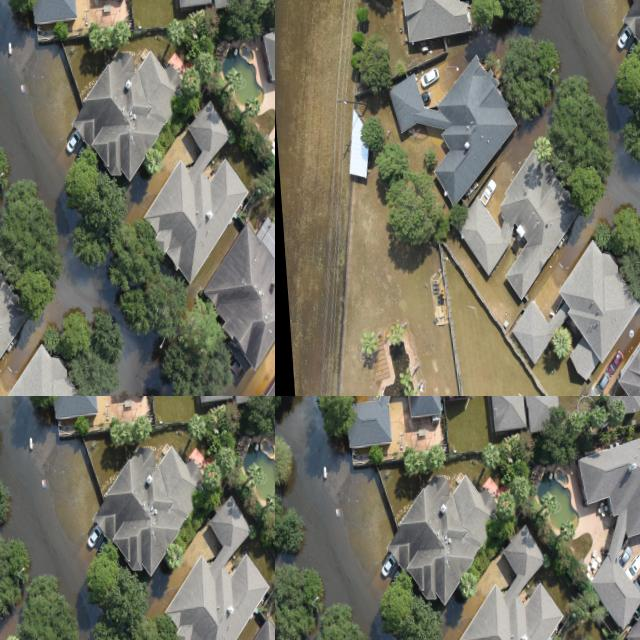fire: (275, 0, 640, 396), (275, 396, 393, 640), (106, 181, 156, 396), (127, 0, 163, 52), (127, 0, 163, 51)
